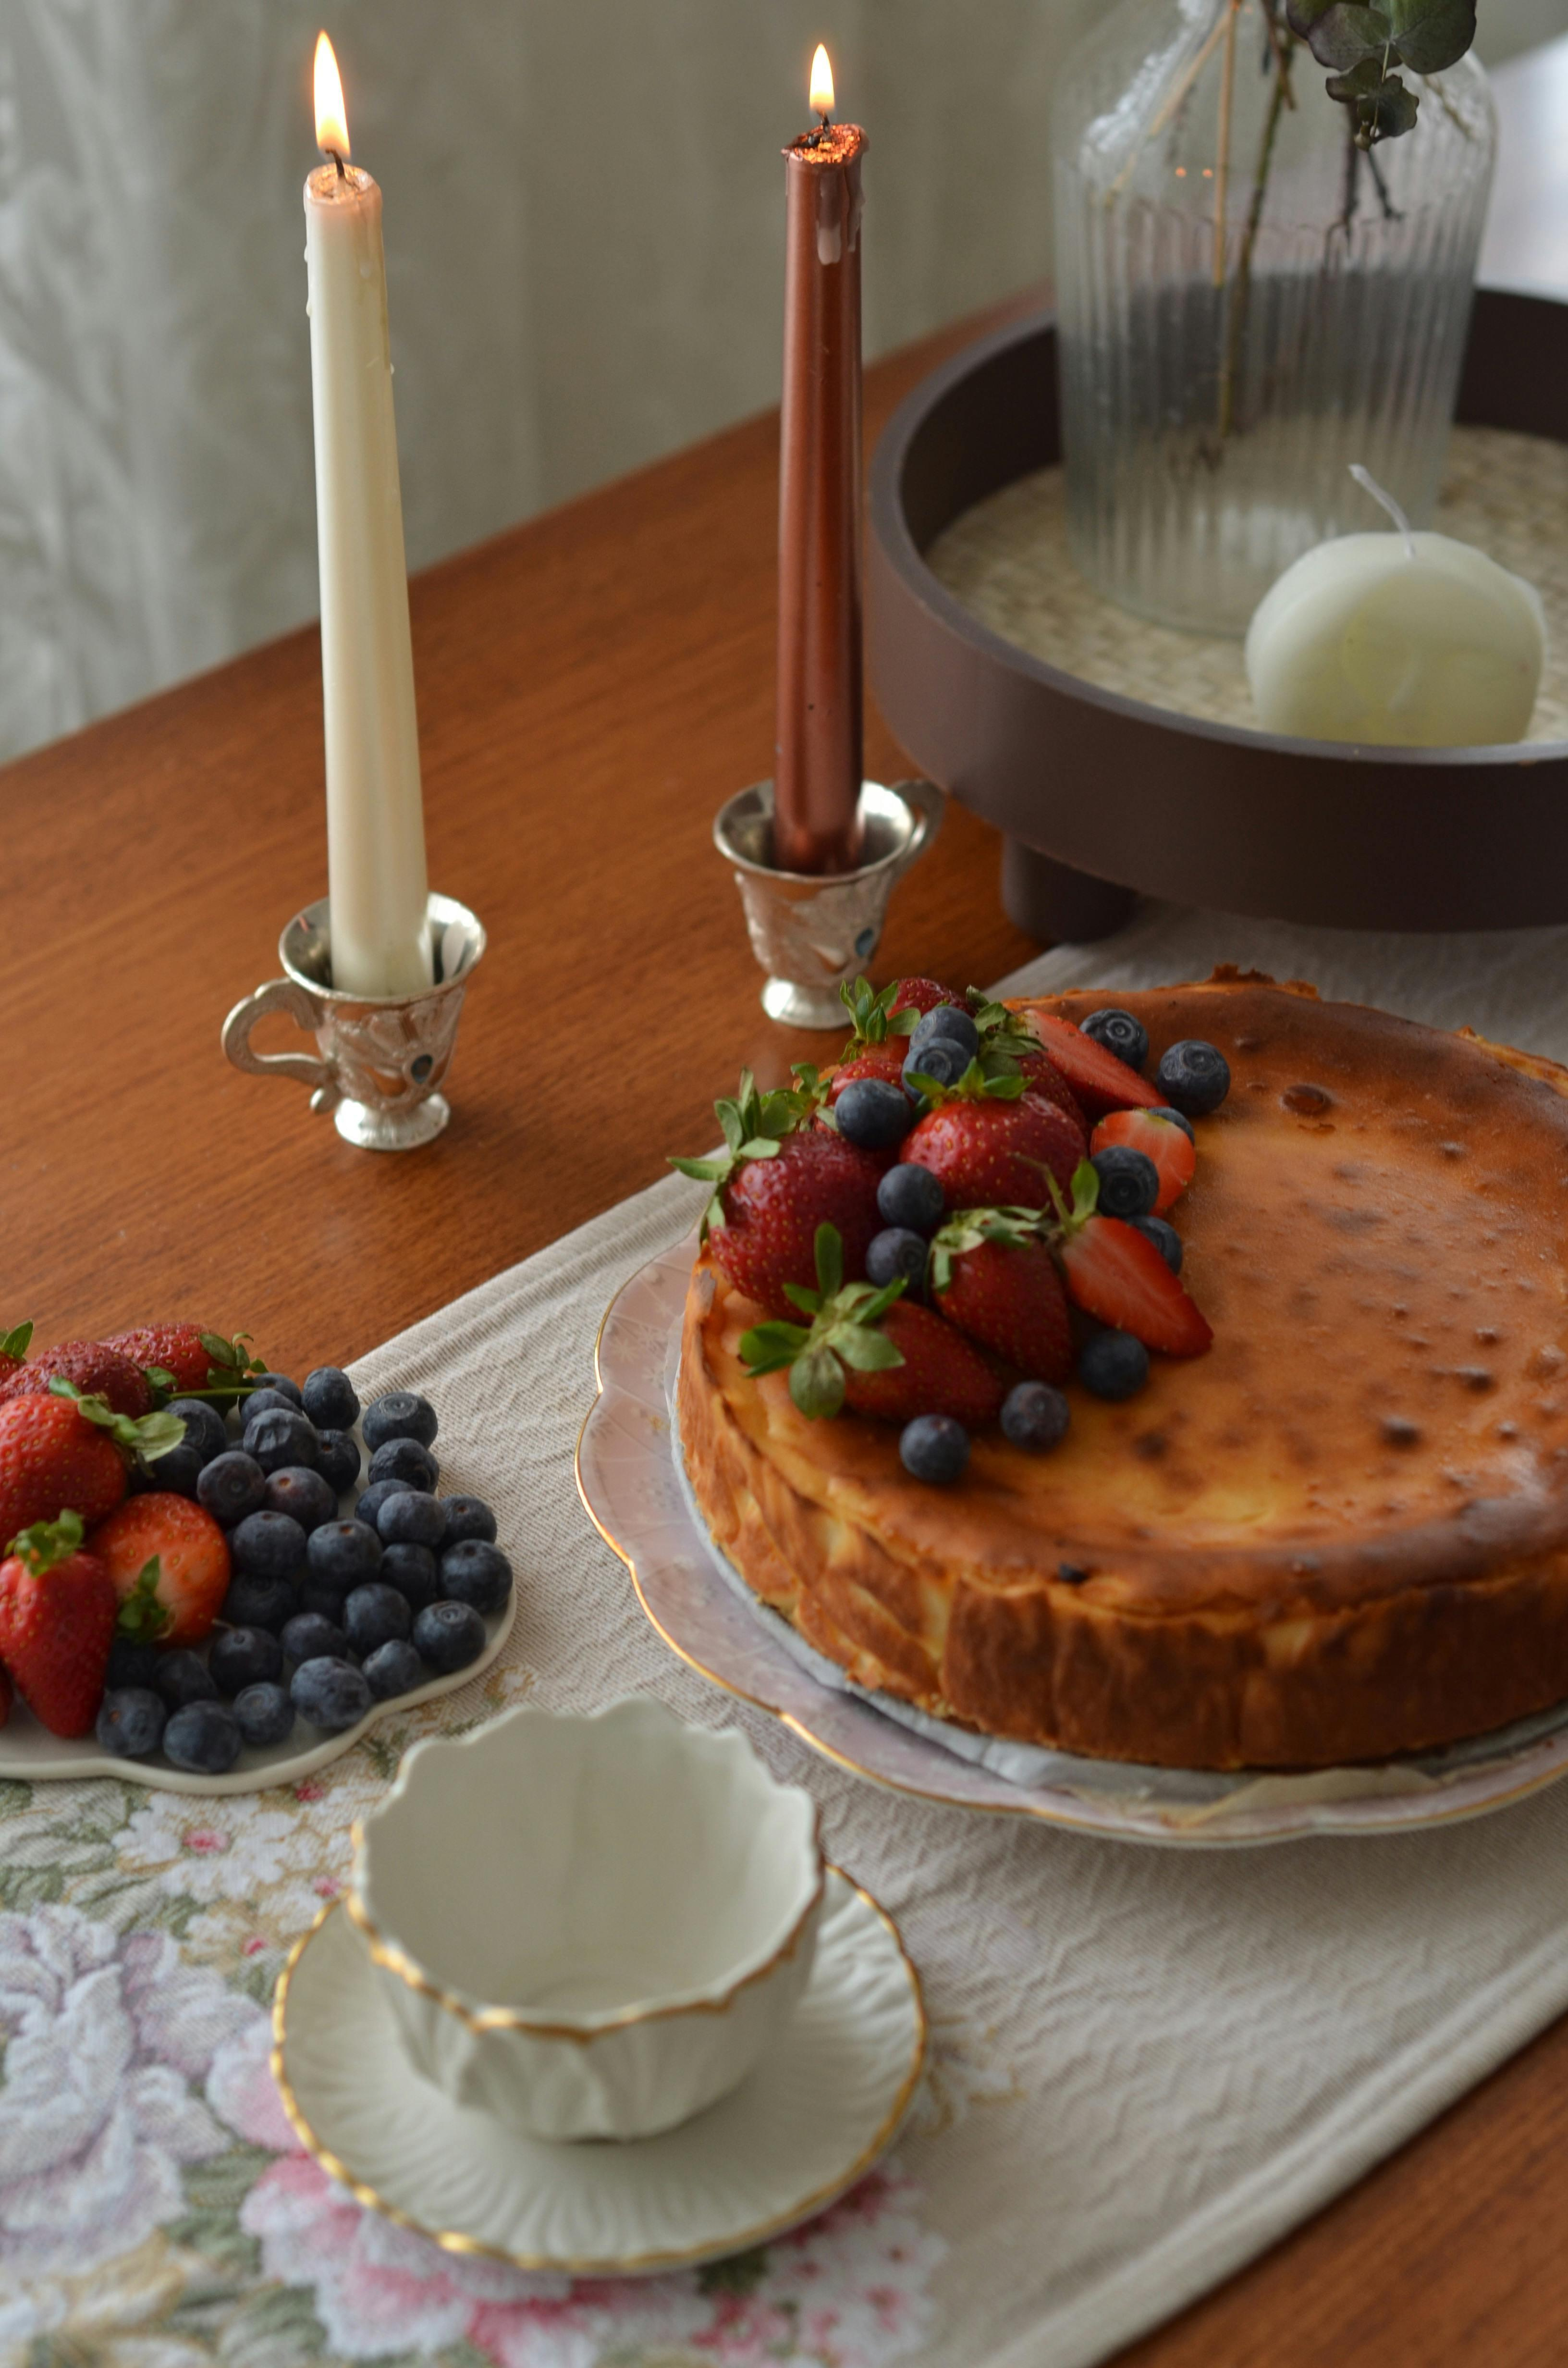Fire: (285, 25, 364, 163), (759, 25, 859, 109)
